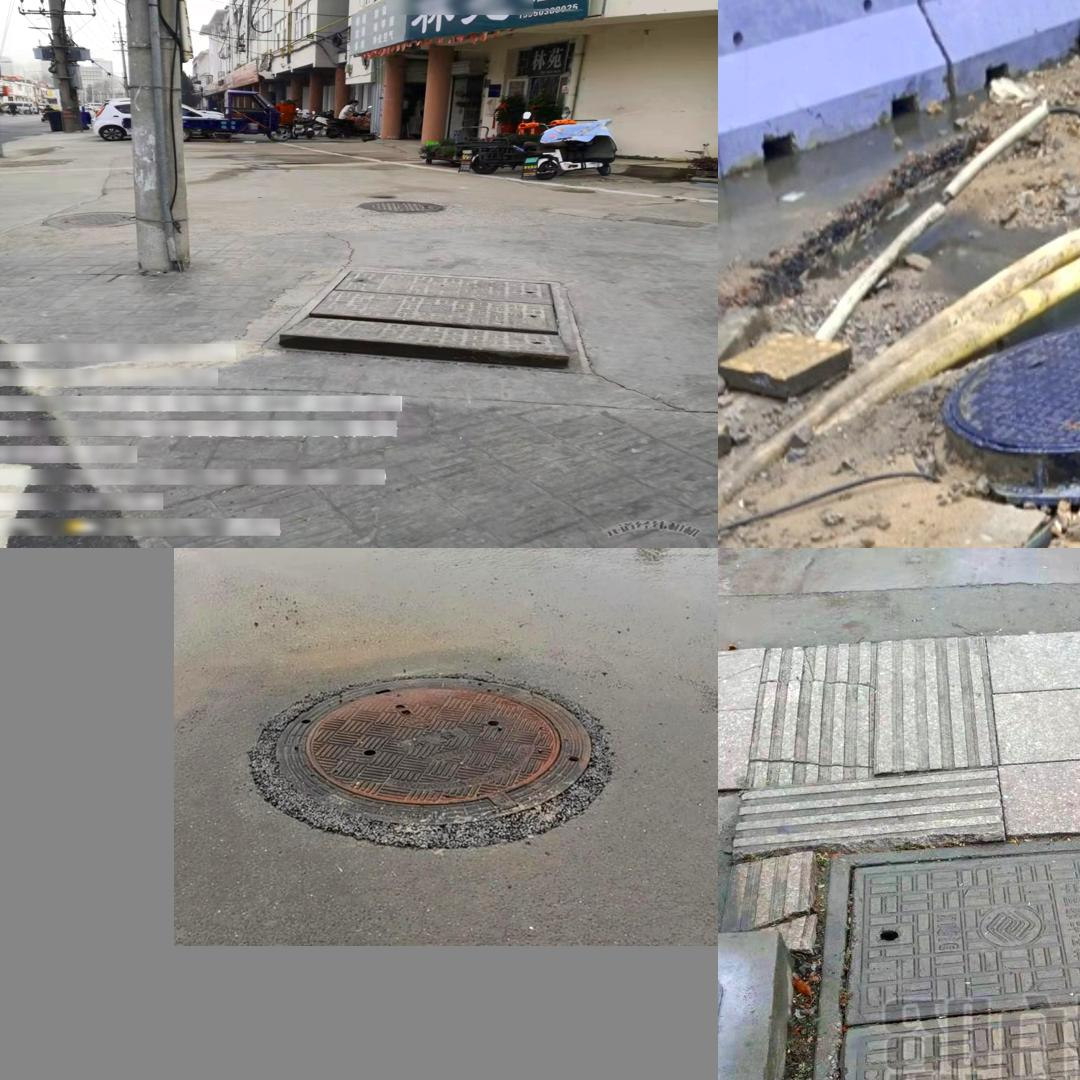good: (236, 656, 615, 862), (794, 826, 1080, 1080), (941, 315, 1080, 458), (353, 199, 450, 216)
uncovered: (259, 266, 580, 370)
